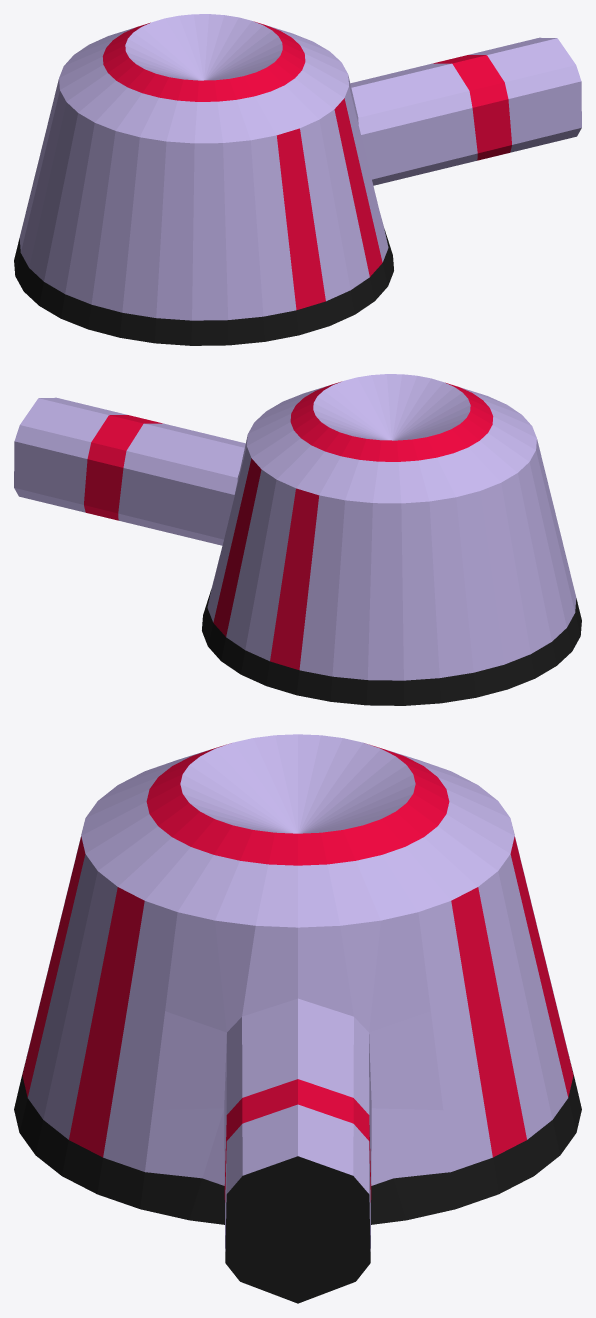
Rendered from starship boss tower.fbx.
The picture shows the model from 3 angles, top to bottom: view 1: azimuth 30°, elevation 25°; view 2: azimuth 150°, elevation 25°; view 3: azimuth 270°, elevation 25°; orthographic projection. The views are drawn at different scales.
Visible parts, largest first — view 1: Circle.002; view 2: Circle.002; view 3: Circle.002.
Part boxes in pixels (x1,y1,x2,y2): Circle.002: [14, 14, 581, 345]; Circle.002: [14, 374, 581, 705]; Circle.002: [14, 734, 581, 1303].
Size of the model in its own units: 59.58 by 23.98 by 37.92.
